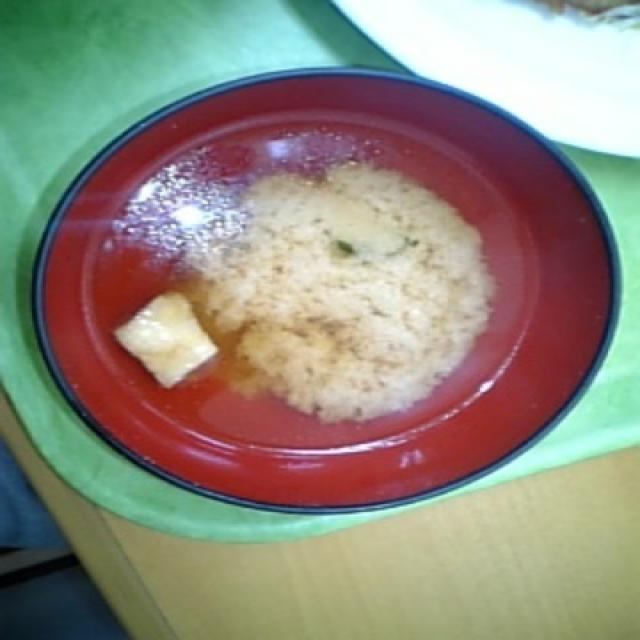汤锅炖物: (108, 149, 640, 540)
